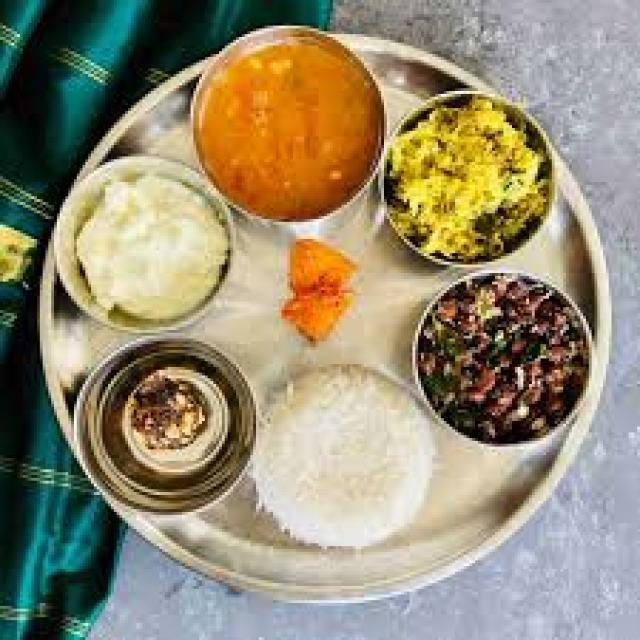dal: (199, 39, 382, 213), (257, 370, 434, 546)
pickle: (114, 369, 239, 469), (265, 234, 369, 337)
veg-fry: (384, 94, 546, 257)
